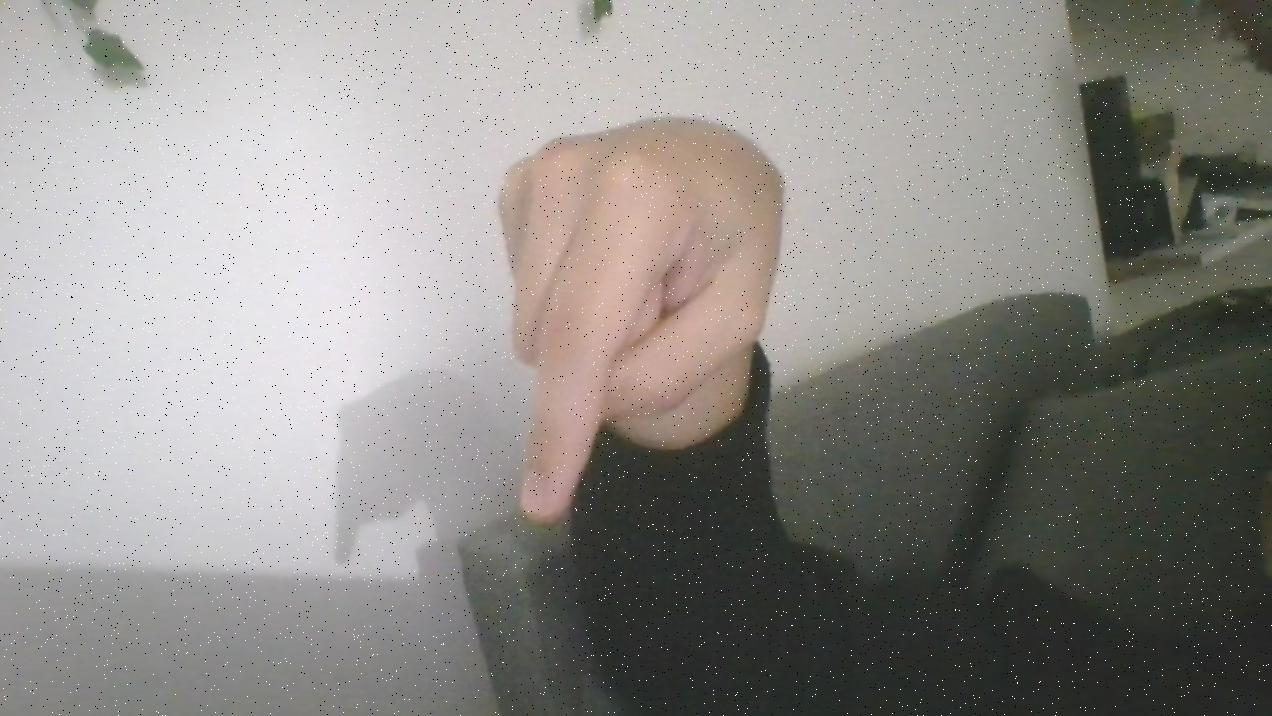down: (454, 55, 807, 572)
